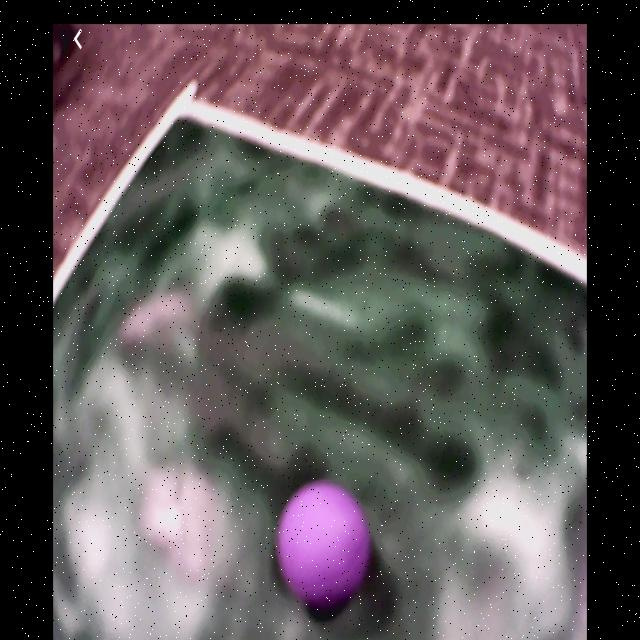ball: (276, 479, 372, 619)
